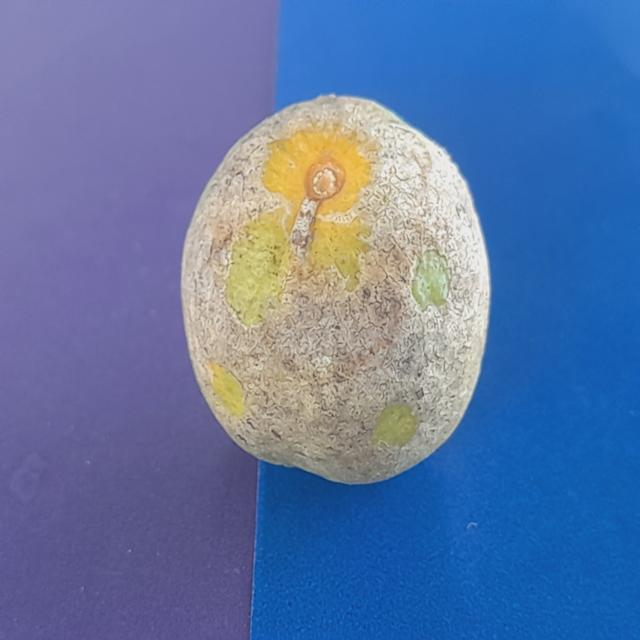thrips: (145, 86, 535, 516)
